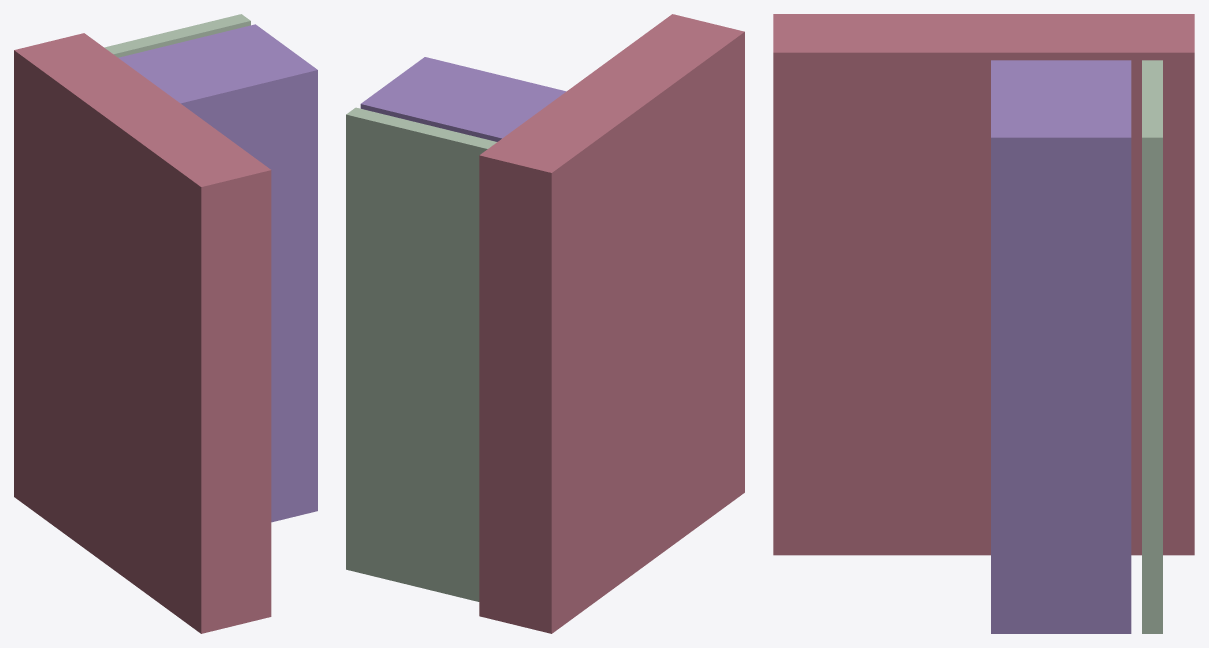
The model's file is 199502_pred.glb.
3 views of the same model, side by side, from view 1: azimuth 30°, elevation 25°; view 2: azimuth 150°, elevation 25°; view 3: azimuth 270°, elevation 25° (orthographic). The views are drawn at different scales.
Visible parts, largest first — view 1: world; view 2: world; view 3: world.
Boxes of the visible parts, x1,y1,x2,y2 form: world: (14, 14, 317, 633); world: (346, 14, 744, 633); world: (773, 14, 1194, 633).
Size of the model in its own units: 3.95 by 7.9 by 6.
